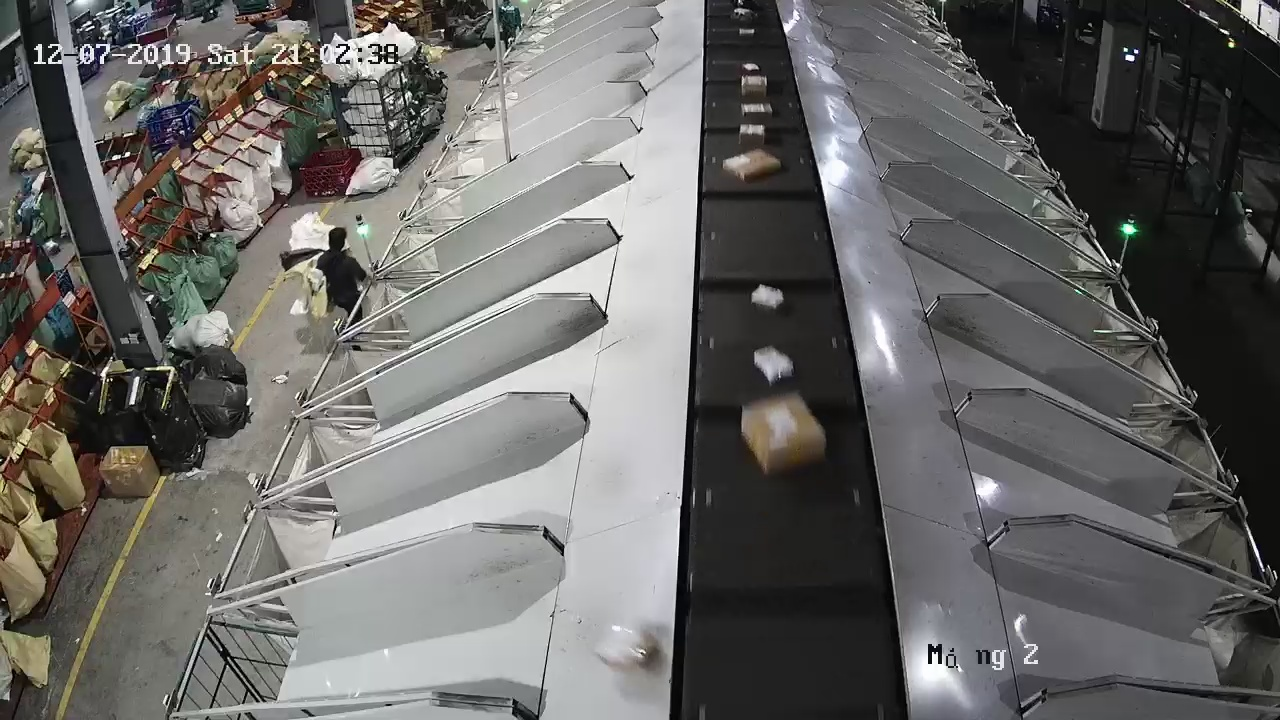parcel: (590, 620, 657, 671)
